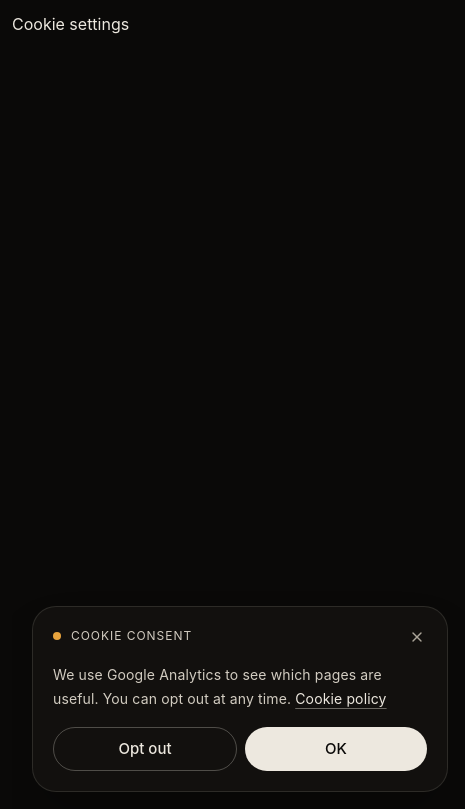
cookie consent UI › banner, notice regions › OK keeps analytics on as an implied record
Click the button "OK" at (336, 749), box [245,727,427,771]
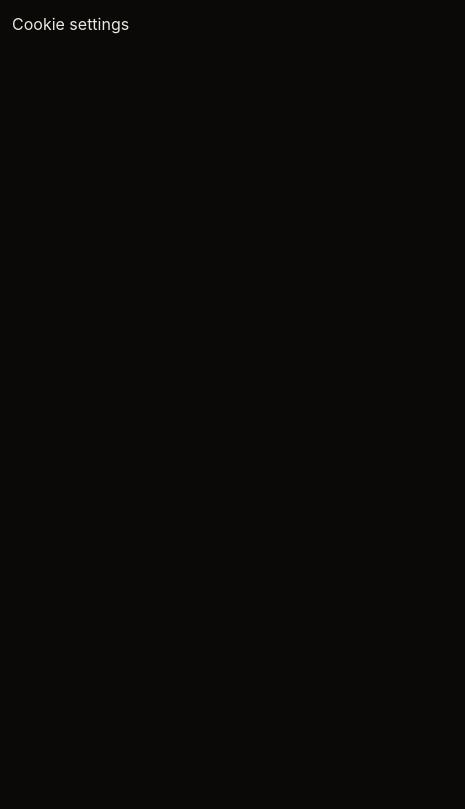
Check: the element "Cookie consent" is gone
